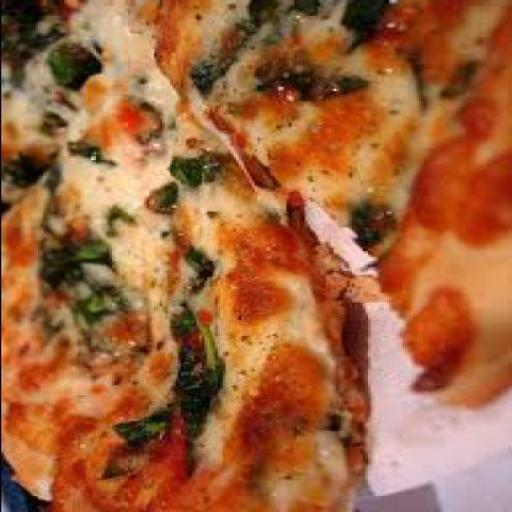biodegradable: (2, 1, 360, 511), (129, 3, 510, 411)
